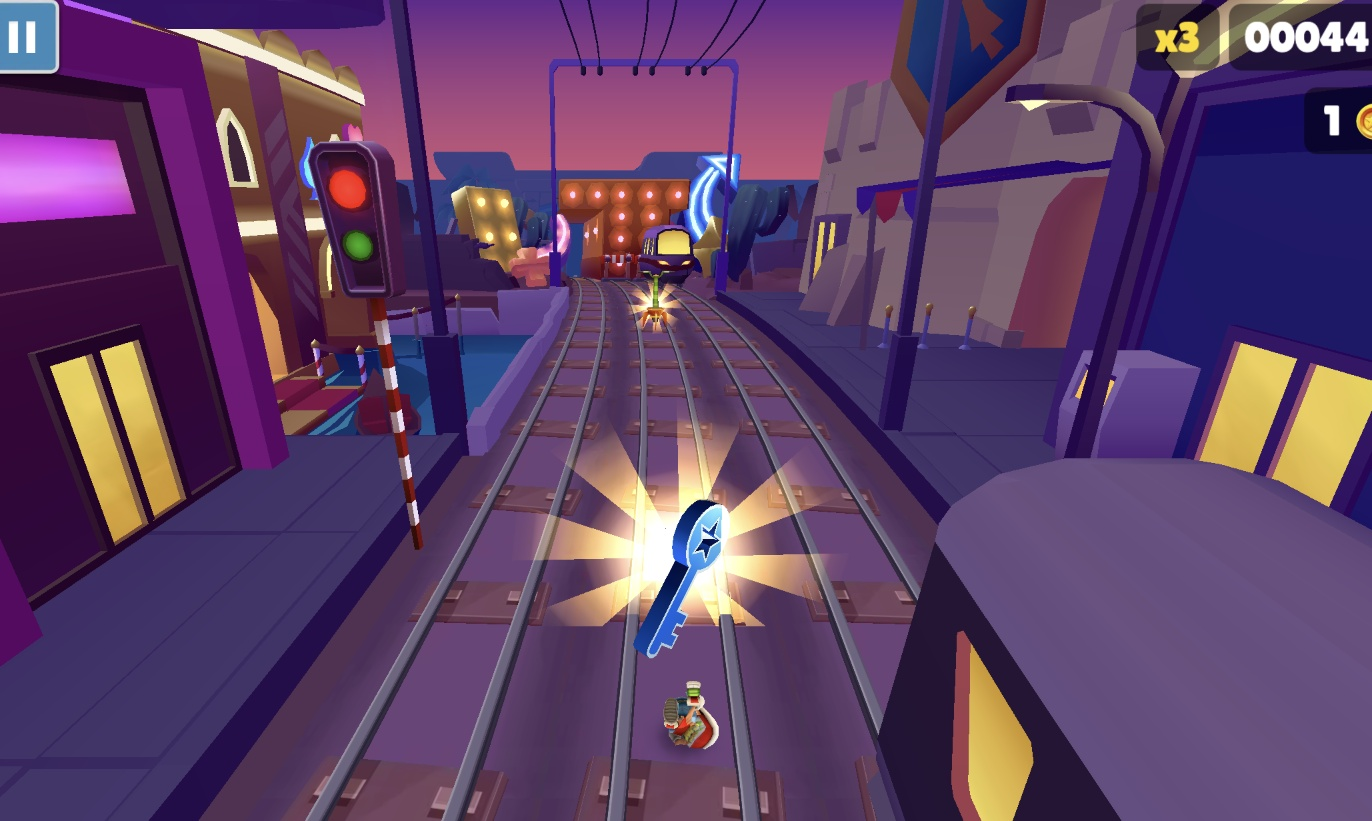ground_barrier: (602, 255, 632, 283)
pillar: (581, 221, 697, 285)
train: (871, 460, 1372, 821), (642, 223, 698, 286)
